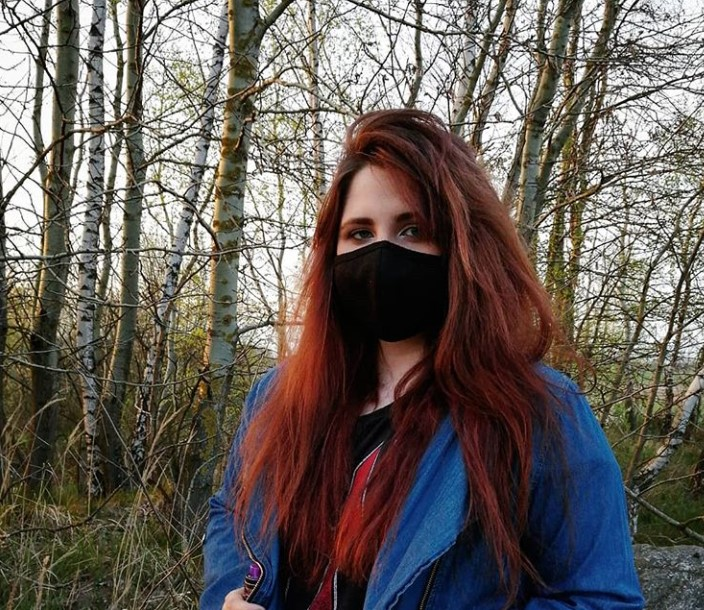face_with_mask: (322, 125, 480, 353)
